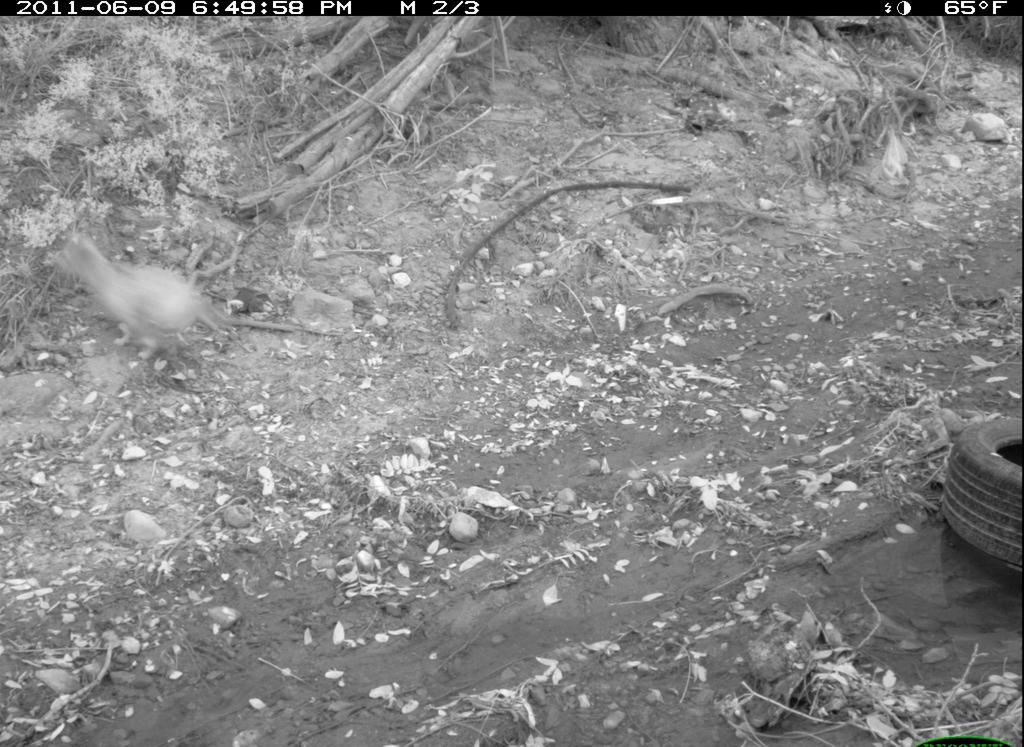dog: (53, 230, 231, 370)
